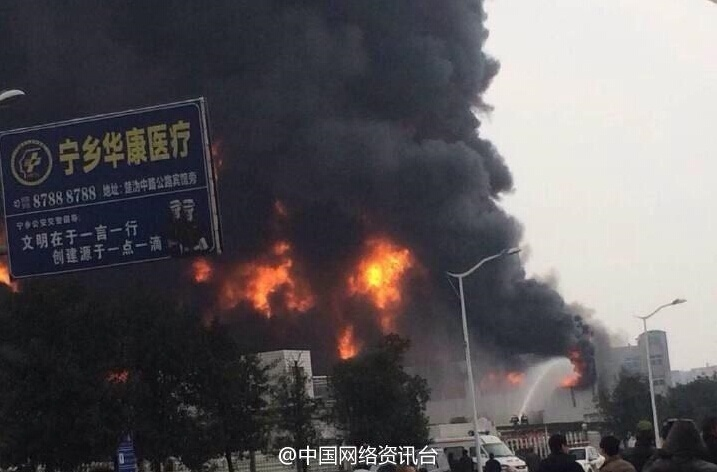fire: (204, 238, 420, 357)
